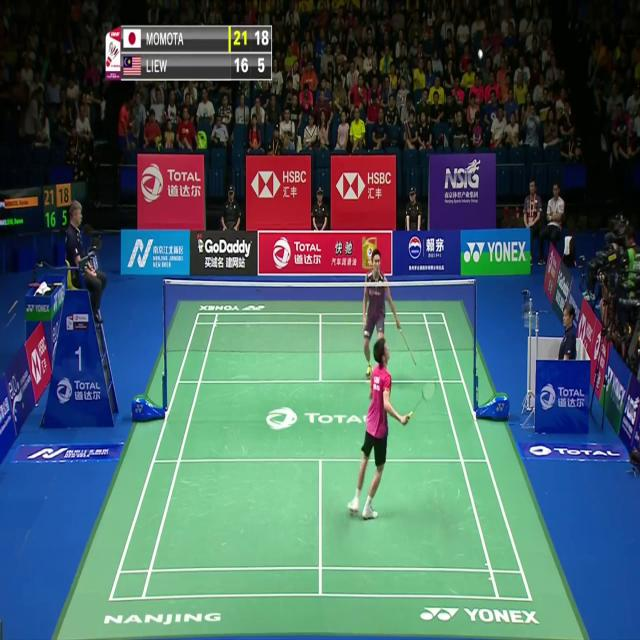Shuttlecock: (478, 47, 484, 58)
